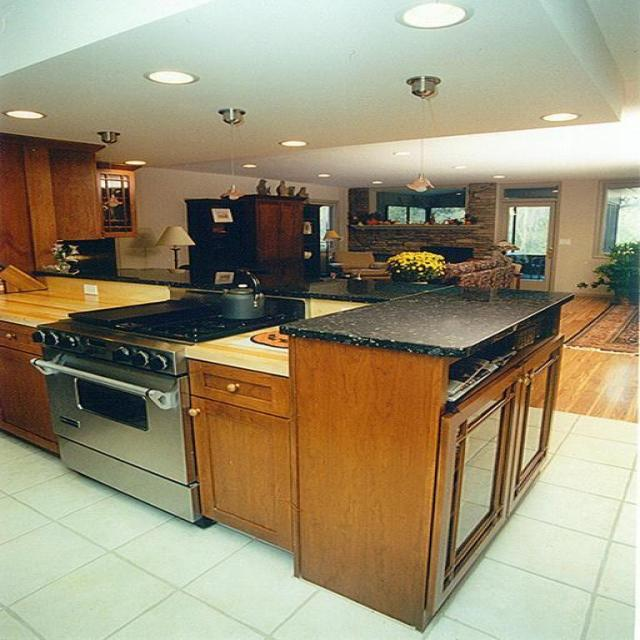cupboard: (185, 357, 295, 555)
lamps: (404, 75, 440, 192), (218, 107, 246, 199), (154, 225, 196, 269)
plants: (576, 240, 638, 306), (385, 250, 446, 283)
rugs: (562, 300, 638, 355)
shelf: (0, 321, 60, 456)
stairs: (346, 181, 499, 260)
windows: (592, 179, 638, 259)
